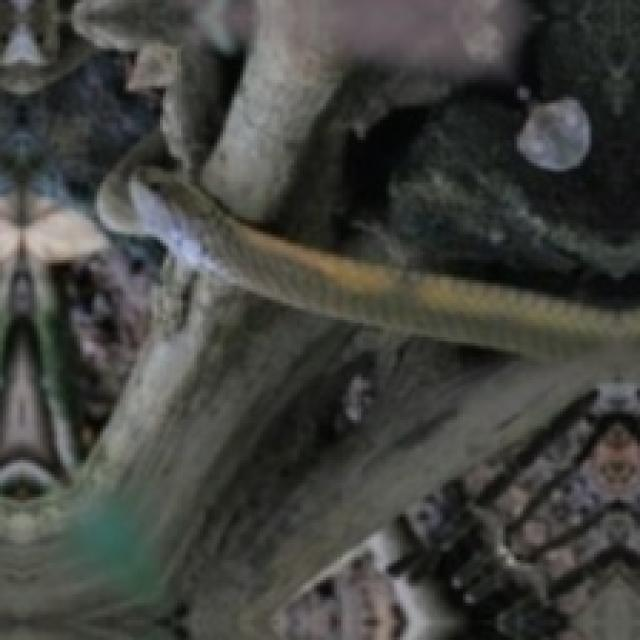king cobra: (97, 146, 637, 366)
